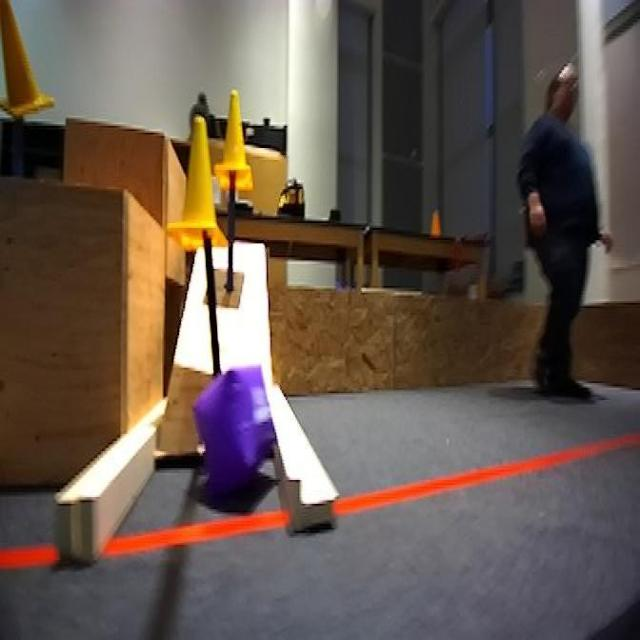frc_cone: (159, 112, 225, 266), (0, 0, 55, 128), (217, 94, 259, 190)
frc_cube: (198, 364, 283, 502)
